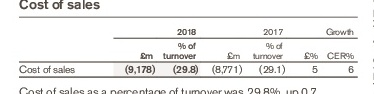table: (0, 0, 374, 94)
